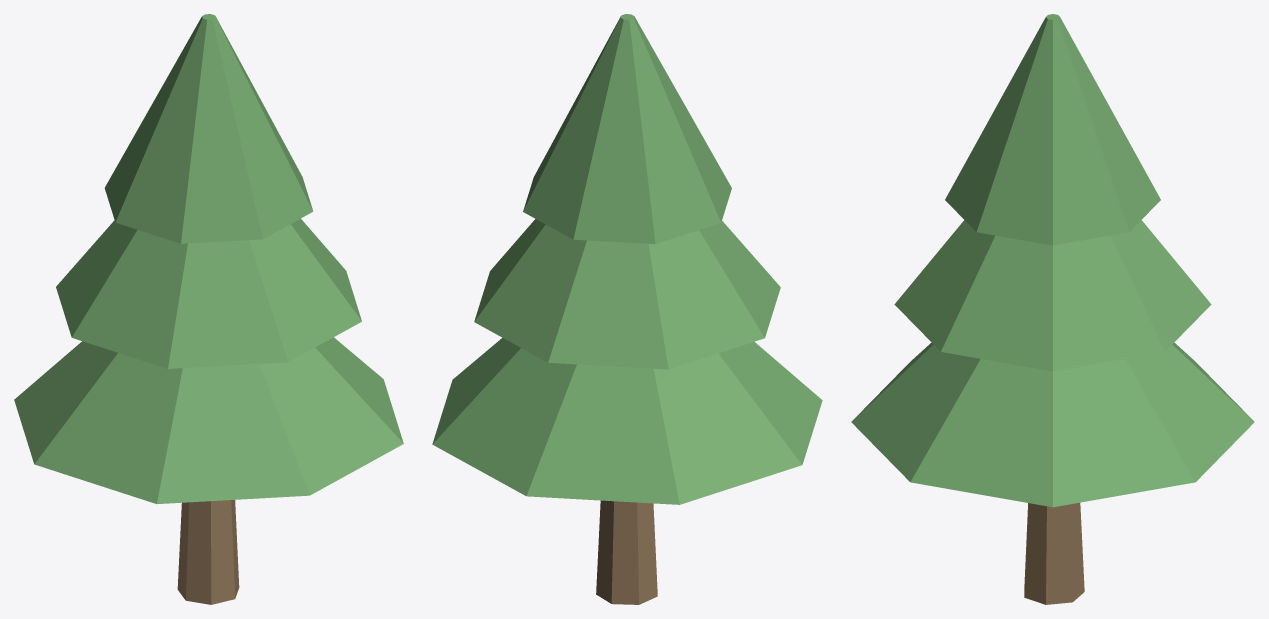
3 views of the same model, side by side, from view 1: azimuth 30°, elevation 25°; view 2: azimuth 150°, elevation 25°; view 3: azimuth 270°, elevation 25° (orthographic).
Parts seen in each view (by area): view 1: cone0, cone1, cone2, trunk; view 2: cone0, cone1, cone2, trunk; view 3: cone0, cone1, cone2, trunk.
Part boxes in pixels (<box>): cone0: <box>14,337,403,503</box>; cone1: <box>56,218,361,368</box>; cone2: <box>104,14,313,243</box>; trunk: <box>177,500,239,604</box>; cone0: <box>432,338,822,504</box>; cone1: <box>474,219,780,369</box>; cone2: <box>523,14,731,244</box>; trunk: <box>596,500,657,604</box>; cone0: <box>851,342,1254,507</box>; cone1: <box>894,220,1211,371</box>; cone2: <box>945,14,1160,245</box>; trunk: <box>1024,502,1084,604</box>.
Size of the model in its own units: 2.8 by 4.4 by 2.8.
